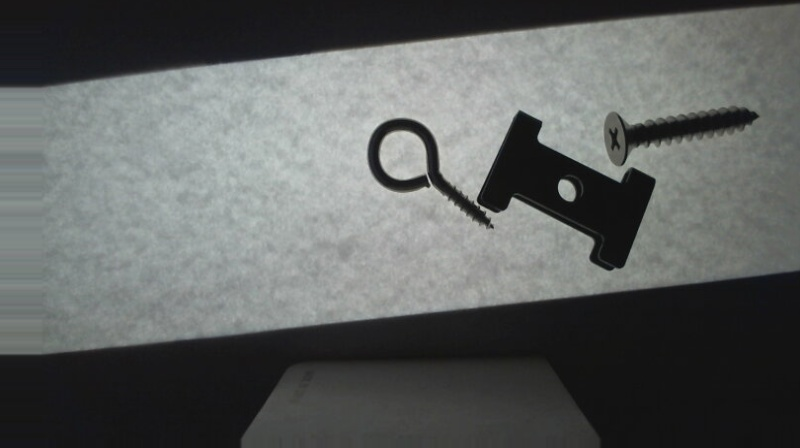O001: (363, 114, 497, 231)
O002: (478, 110, 654, 272)
S001: (602, 101, 760, 166)
